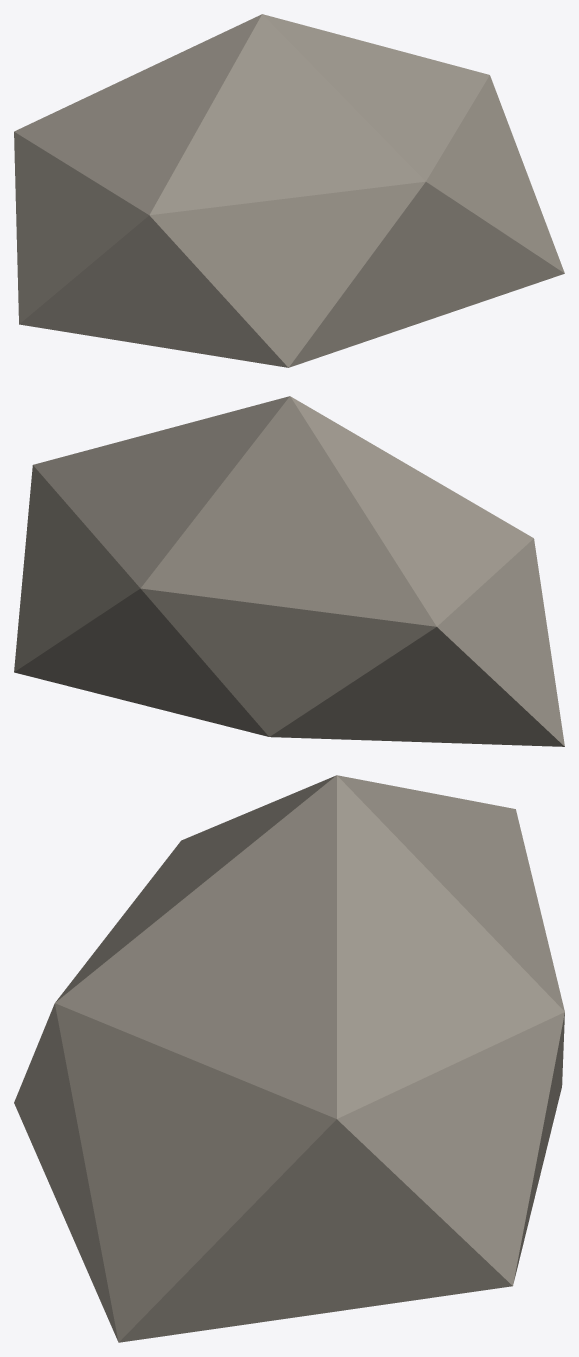
File: HS_LP_Rock_Medium_04.fbx
3 views of the same model, one above another, from view 1: azimuth 30°, elevation 25°; view 2: azimuth 150°, elevation 25°; view 3: azimuth 270°, elevation 25° (orthographic). The views are drawn at different scales.
Parts seen in each view (by area): view 1: HS_LP_Rock_Medium_04; view 2: HS_LP_Rock_Medium_04; view 3: HS_LP_Rock_Medium_04.
Boxes of the visible parts, <box> form: HS_LP_Rock_Medium_04: <box>14,14,564,367</box>; HS_LP_Rock_Medium_04: <box>14,396,564,746</box>; HS_LP_Rock_Medium_04: <box>14,775,564,1342</box>.
Bounding box in the file's own units: 113 × 63.25 × 75.33.
